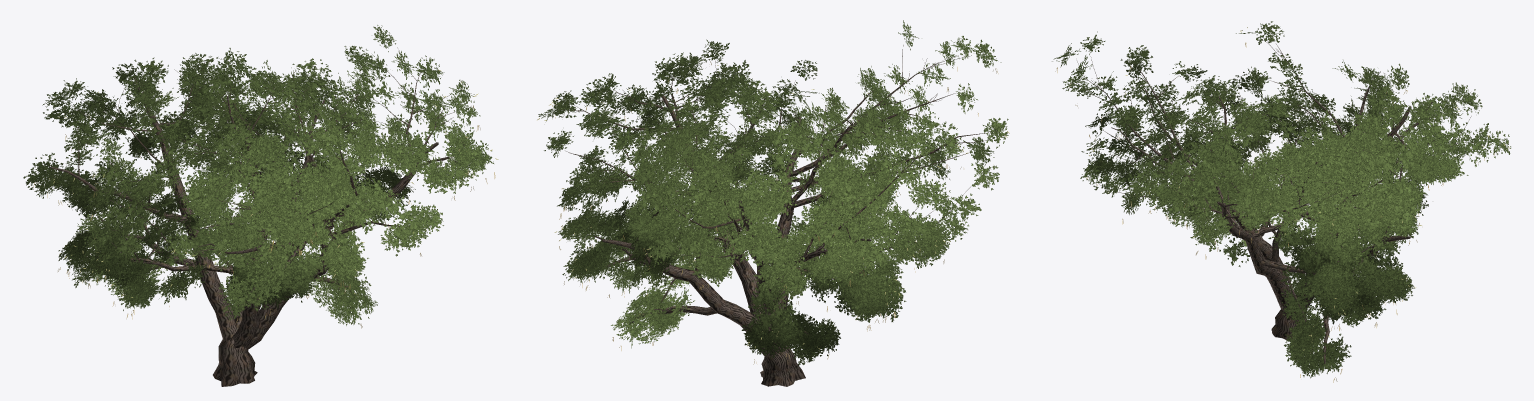
File: old-c.lod0.glb
The picture shows the model from 3 angles, left to right: view 1: azimuth 30°, elevation 25°; view 2: azimuth 150°, elevation 25°; view 3: azimuth 270°, elevation 25°; orthographic projection. The views are drawn at different scales.
Parts seen in each view (by area): view 1: foliage, bark, fruit; view 2: foliage, bark, fruit; view 3: foliage, bark.
Boxes of the visible parts, left/top/right/bottom form: foliage: left=23, top=25, right=493, bottom=325; bark: left=49, top=47, right=464, bottom=386; fruit: left=33, top=104, right=495, bottom=328; foliage: left=538, top=20, right=1008, bottom=365; bark: left=566, top=45, right=988, bottom=386; fruit: left=552, top=61, right=998, bottom=364; foliage: left=1052, top=21, right=1510, bottom=378; bark: left=1077, top=40, right=1484, bottom=363.
Bounding box in the file's own units: 14.24 × 9.5 × 15.1.
5 materials, 2 textured.
